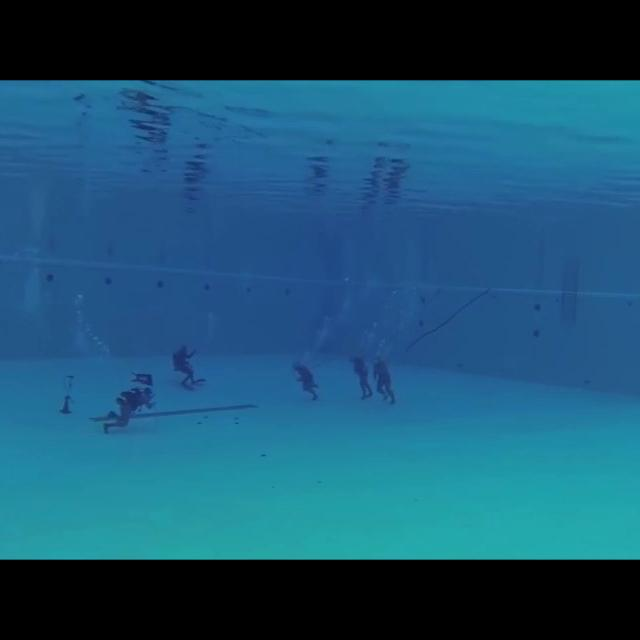human: (86, 366, 165, 439), (168, 340, 208, 395), (369, 348, 401, 410), (346, 347, 376, 403), (290, 355, 323, 405)
